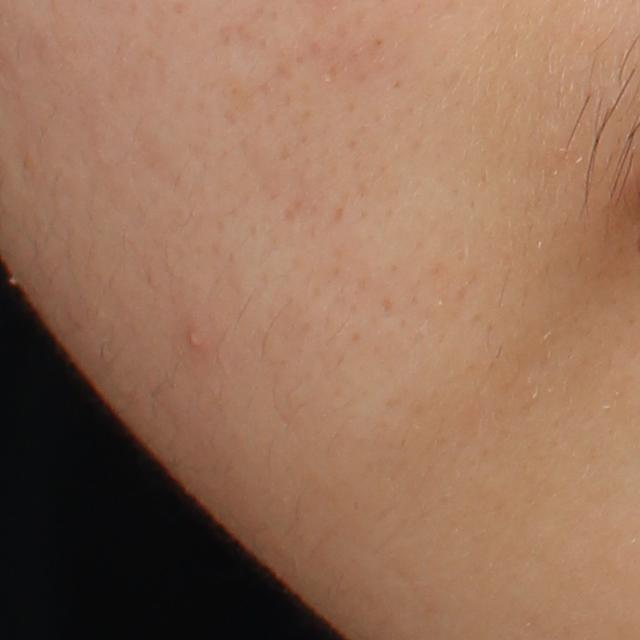papule: (186, 325, 210, 356)
